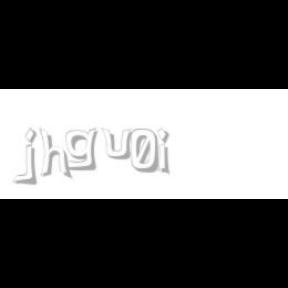0: (130, 128, 162, 174)
g: (64, 128, 101, 171)
h: (38, 128, 74, 180)
i: (157, 128, 173, 176)
j: (22, 128, 51, 186)
u: (101, 128, 136, 160)
